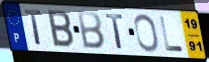B: (76, 11, 106, 51), (46, 9, 75, 50)
L: (158, 15, 185, 53)
O: (133, 12, 161, 53)
T: (23, 8, 44, 48), (103, 13, 125, 51)
